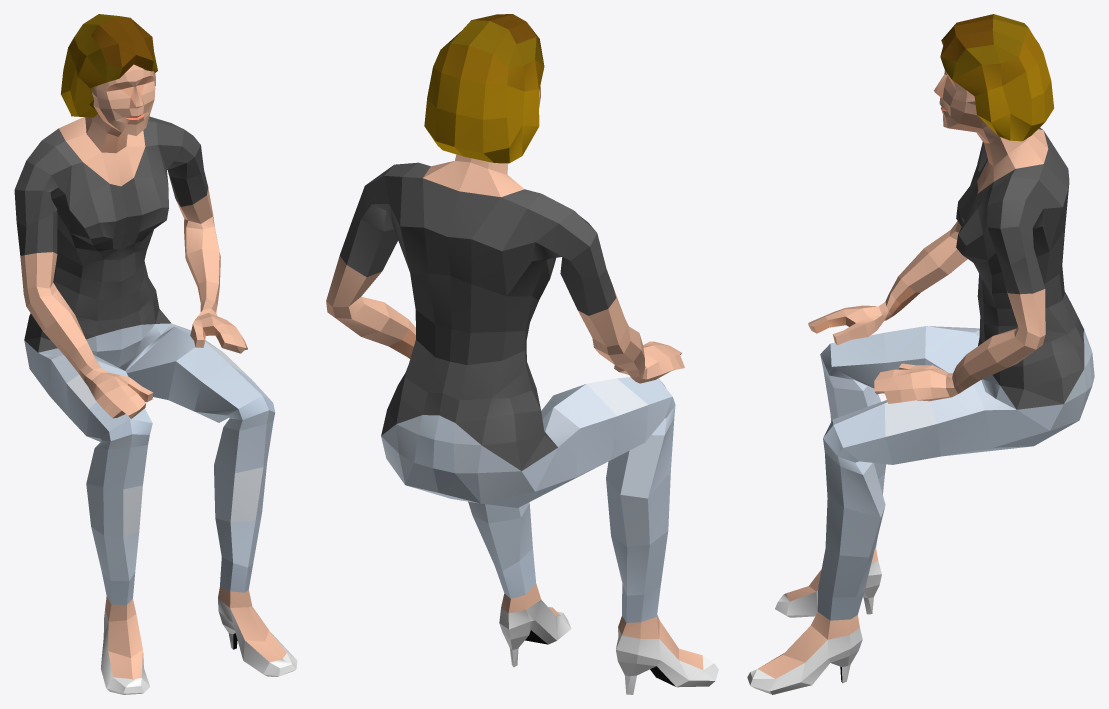
Rendered from npctest1.fbx.
3 renders of one model, left to right at view 1: azimuth 30°, elevation 25°; view 2: azimuth 150°, elevation 25°; view 3: azimuth 270°, elevation 25°, orthographic. The views are drawn at different scales.
Parts seen in each view (by area): view 1: lpFemale_casual_G_sitting; view 2: lpFemale_casual_G_sitting; view 3: lpFemale_casual_G_sitting.
Boxes of the visible parts, x1=… form: lpFemale_casual_G_sitting: x1=14, y1=14, x2=297, y2=694; lpFemale_casual_G_sitting: x1=326, y1=14, x2=718, y2=694; lpFemale_casual_G_sitting: x1=747, y1=14, x2=1094, y2=694.
Bounding box in the file's own units: 64.29 × 169 × 83.66.
Materials: 1 (1 with a texture image).
